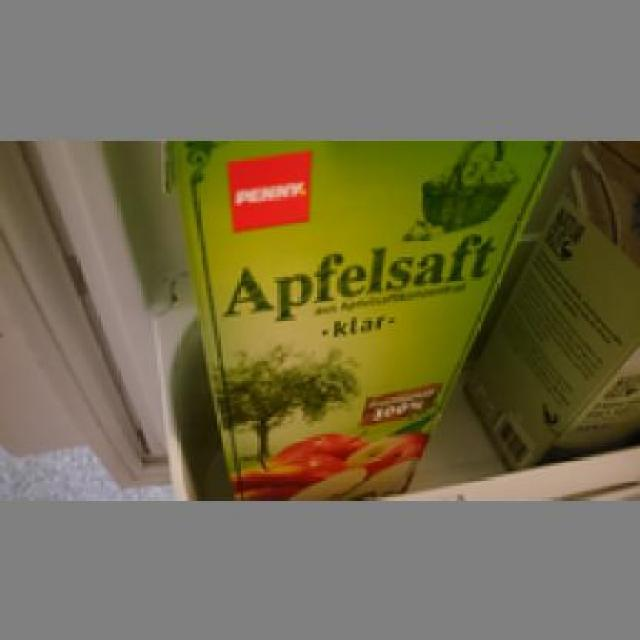Juice: (157, 140, 554, 497)
